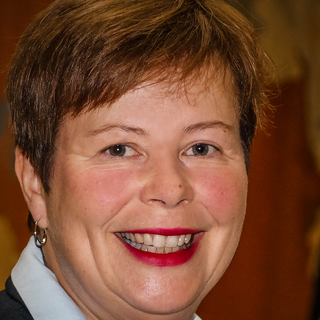eye: (96, 139, 144, 163), (179, 138, 225, 163)
